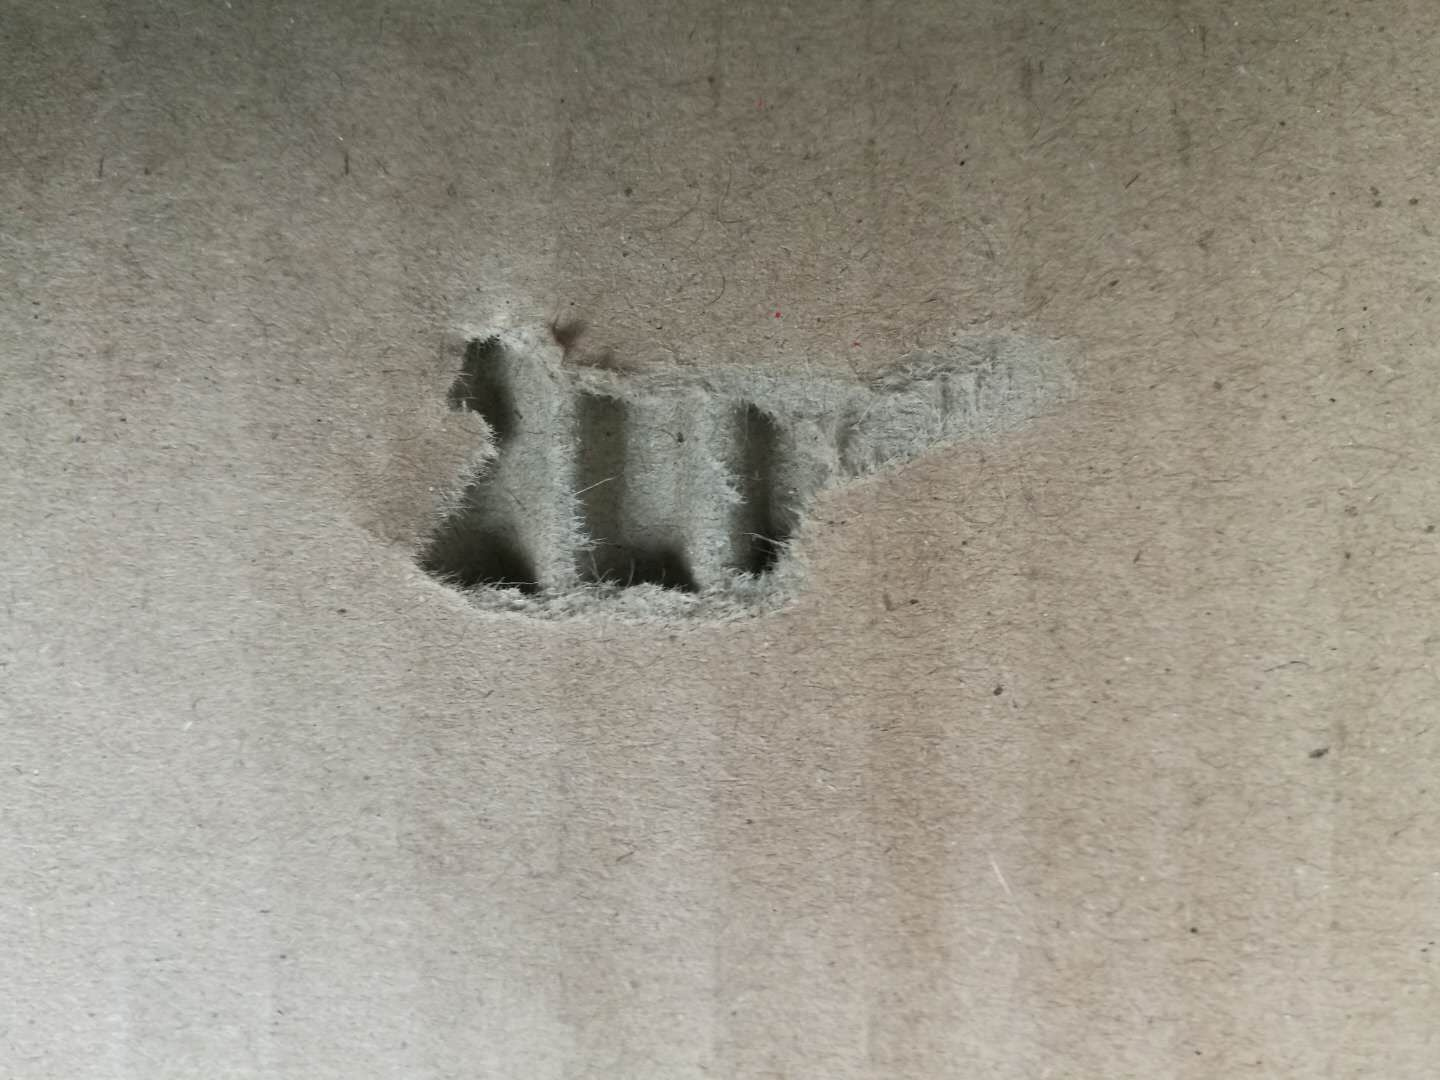defect: (331, 256, 1120, 657)
